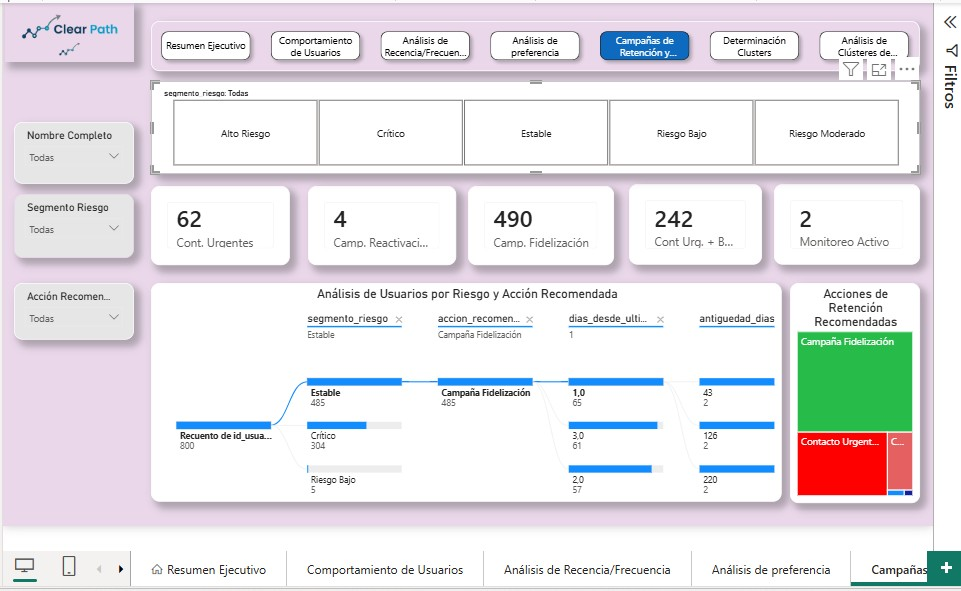

The dashboard page shown, as its layout file describes it:
{"tool":"powerbi","page":{"name":"Campañas de Retención y Acciones Recomendadas","canvas":[1280,720],"ordinal":4},"visuals":[{"type":"cardVisual","fields":{"Data":["churn.Usuarios Prioridad Alta"]},"box":[203.7,251.9,191.3,108.7],"z":0},{"type":"cardVisual","fields":{"Data":["churn.Campañas Reactivación"]},"box":[419.8,251.9,203.7,108.7],"z":1000},{"type":"cardVisual","fields":{"Data":["churn.Emails Personalizados"]},"box":[640,251.9,200.9,108.7],"z":2000},{"type":"cardVisual","fields":{"Data":["churn.Contacto Urgente + Bono"]},"box":[861.6,249.1,183.1,111.5],"z":3000},{"type":"decompositionTreeVisual","title":"Análisis de Usuarios por Riesgo y Acción Recomendada","fields":{"Analyze":["CountNonNull(churn.id_usuario)"],"ExplainBy":["churn.segmento_riesgo","churn.accion_recomendada","churn.dias_desde_ultima_apuesta","churn.antiguedad_dias"]},"box":[203.7,385.4,868.5,301.4],"z":4000},{"type":"cardVisual","fields":{"Data":["churn.Monitoreo Activo"]},"box":[1061.2,249.1,200.9,111.5],"z":5000},{"type":"treemap","title":"Acciones de Retención Recomendadas","fields":{"Group":["churn.accion_recomendada"],"Values":["CountNonNull(churn.id_usuario)"]},"box":[1083.2,385.4,178.9,302.8],"z":6000},{"type":"pageNavigator","box":[203.7,24.8,1058.4,68.8],"z":7000},{"type":"slicer","fields":{"Values":["churn.Nombre_Completo"]},"box":[15.1,163.8,165.2,85.3],"z":8000},{"type":"slicer","fields":{"Values":["churn.accion_recomendada"]},"box":[15.1,385.4,165.2,78.5],"z":9000},{"type":"image","box":[2.8,0,177.5,81.2],"z":10000},{"type":"slicer","fields":{"Values":["churn.segmento_riesgo"]},"box":[15.1,262.9,165.2,88.1],"z":11000},{"type":"slicer","title":"Segmento Riesgo","fields":{"Values":["churn.segmento_riesgo"]},"box":[203.7,107.4,1058.4,128],"z":12000}]}

Visuals, with their boxes on the page's 1280x720 design canvas (x1, y1, x2, y2). These are canvas units, not pixel positions in the 961x591 screenshot, which may show the page scaled, cropped or inside an application window:
cardVisual - churn.Usuarios Prioridad Alta: [204, 252, 395, 361]
cardVisual - churn.Campañas Reactivación: [420, 252, 624, 361]
cardVisual - churn.Emails Personalizados: [640, 252, 841, 361]
cardVisual - churn.Contacto Urgente + Bono: [862, 249, 1045, 361]
"Análisis de Usuarios por Riesgo y Acción Recomendada" decompositionTreeVisual: [204, 385, 1072, 687]
cardVisual - churn.Monitoreo Activo: [1061, 249, 1262, 361]
"Acciones de Retención Recomendadas" treemap: [1083, 385, 1262, 688]
pageNavigator: [204, 25, 1262, 94]
slicer - churn.Nombre_Completo: [15, 164, 180, 249]
slicer - churn.accion_recomendada: [15, 385, 180, 464]
image: [3, 0, 180, 81]
slicer - churn.segmento_riesgo: [15, 263, 180, 351]
"Segmento Riesgo" slicer: [204, 107, 1262, 235]
